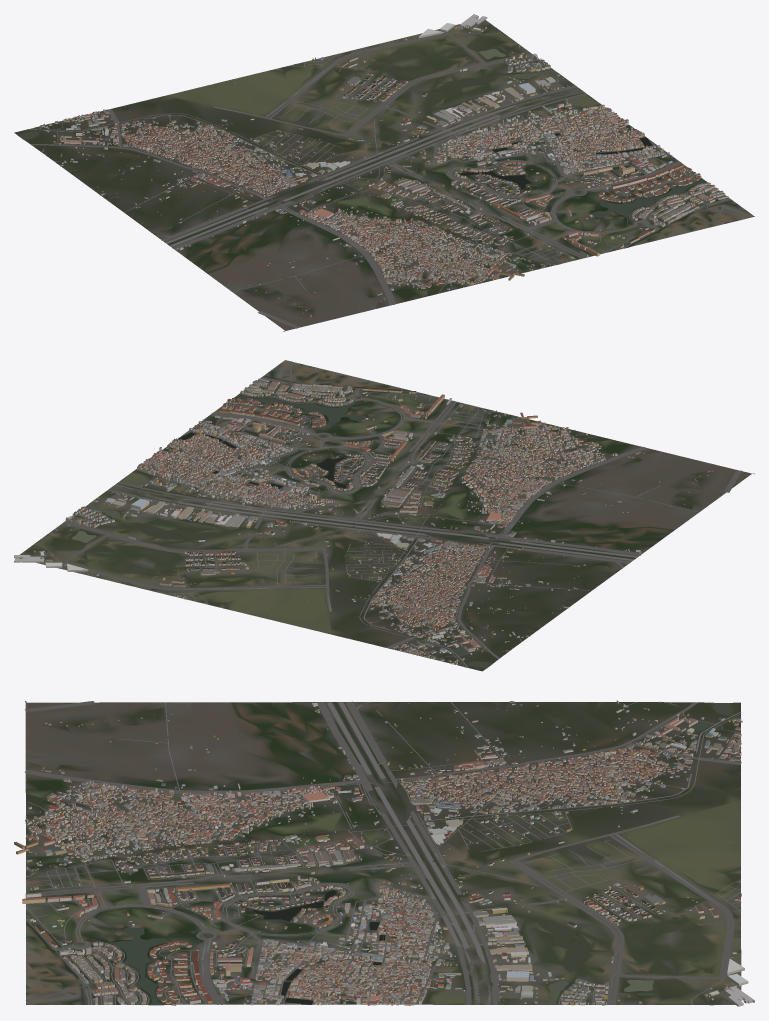
The picture shows the model from 3 angles, top to bottom: view 1: azimuth 30°, elevation 25°; view 2: azimuth 150°, elevation 25°; view 3: azimuth 270°, elevation 25°; orthographic projection. The views are drawn at different scales.
Visible parts, largest first — view 1: ground, buildings, roads, water; view 2: ground, buildings, roads, water; view 3: ground, buildings, roads, water.
Part boxes in pixels (x1,y1,x2,y2): ground: [14, 20, 754, 330]; buildings: [40, 14, 728, 317]; roads: [28, 31, 749, 331]; water: [18, 38, 724, 264]; ground: [19, 360, 751, 671]; buildings: [14, 378, 712, 664]; roads: [34, 361, 754, 667]; water: [64, 377, 491, 668]; ground: [25, 702, 741, 1005]; buildings: [14, 700, 754, 1006]; roads: [24, 701, 741, 1004]; water: [26, 703, 733, 1004].
Bounding box in the file's own units: 2830 × 31.74 × 2905.
